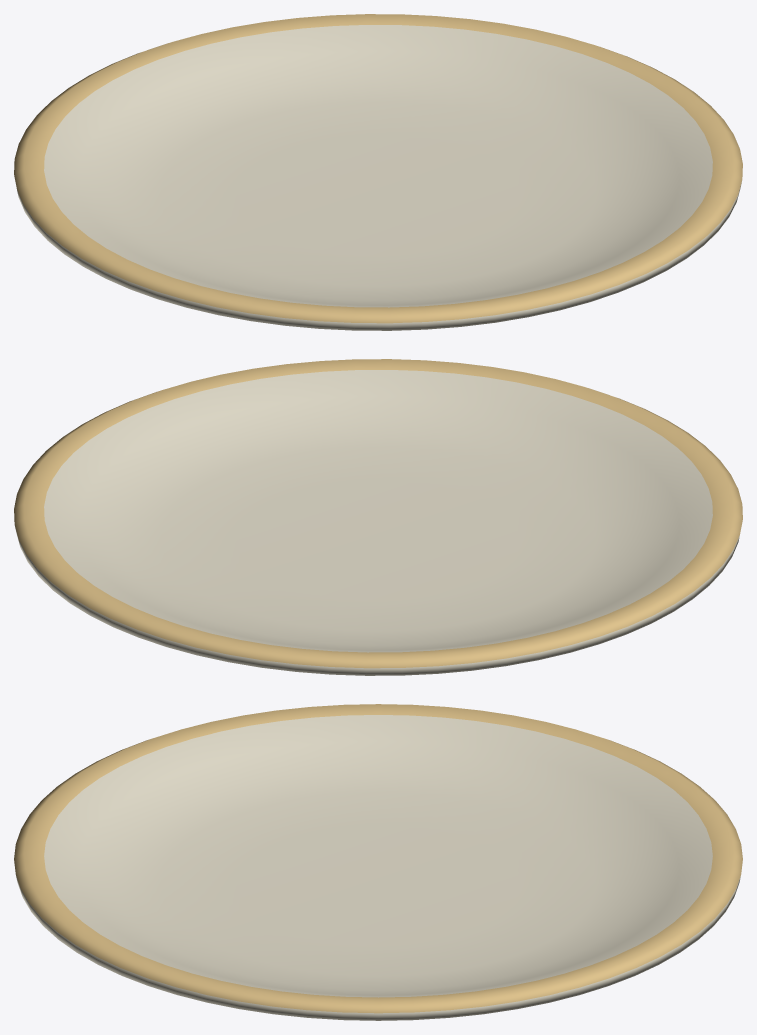
Rendered from ceramic_plate.glb.
3 views of the same model, one above another, from view 1: azimuth 30°, elevation 25°; view 2: azimuth 150°, elevation 25°; view 3: azimuth 270°, elevation 25° (orthographic).
Visible parts, largest first — view 1: CeramicPlate; view 2: CeramicPlate; view 3: CeramicPlate.
Part boxes in pixels (left/top/right/bottom): CeramicPlate: left=14, top=14, right=742, bottom=330; CeramicPlate: left=14, top=359, right=742, bottom=675; CeramicPlate: left=14, top=704, right=742, bottom=1020.
Size of the model in its own units: 4.36 by 0.3 by 4.36.
